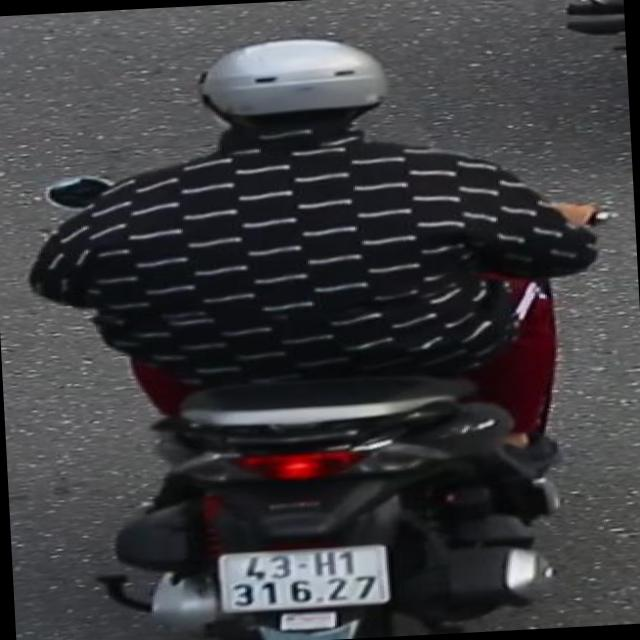LP: (202, 534, 402, 622)
helmet: (176, 27, 407, 163)
